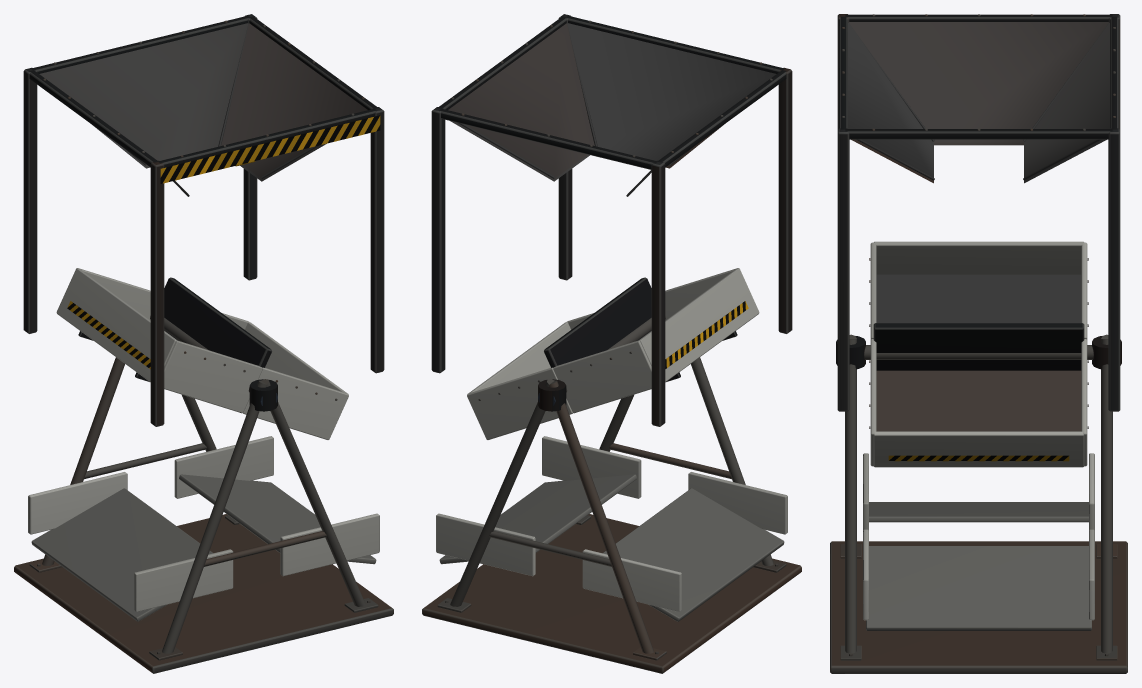
Rendered from concept_tipping_bucket.glb.
3 views of the same model, side by side, from view 1: azimuth 30°, elevation 25°; view 2: azimuth 150°, elevation 25°; view 3: azimuth 270°, elevation 25° (orthographic). The views are drawn at different scales.
Parts seen in each view (by area): view 1: Frame, Bucket; view 2: Frame, Bucket; view 3: Frame, Bucket.
Boxes of the visible parts, left/top/right/bottom form: Frame: left=14, top=14, right=393, bottom=673; Bucket: left=56, top=268, right=348, bottom=439; Frame: left=422, top=14, right=801, bottom=673; Bucket: left=467, top=268, right=759, bottom=439; Frame: left=830, top=14, right=1127, bottom=673; Bucket: left=864, top=241, right=1093, bottom=467.
Bounding box in the file's own units: 2 × 3.96 × 1.98.
